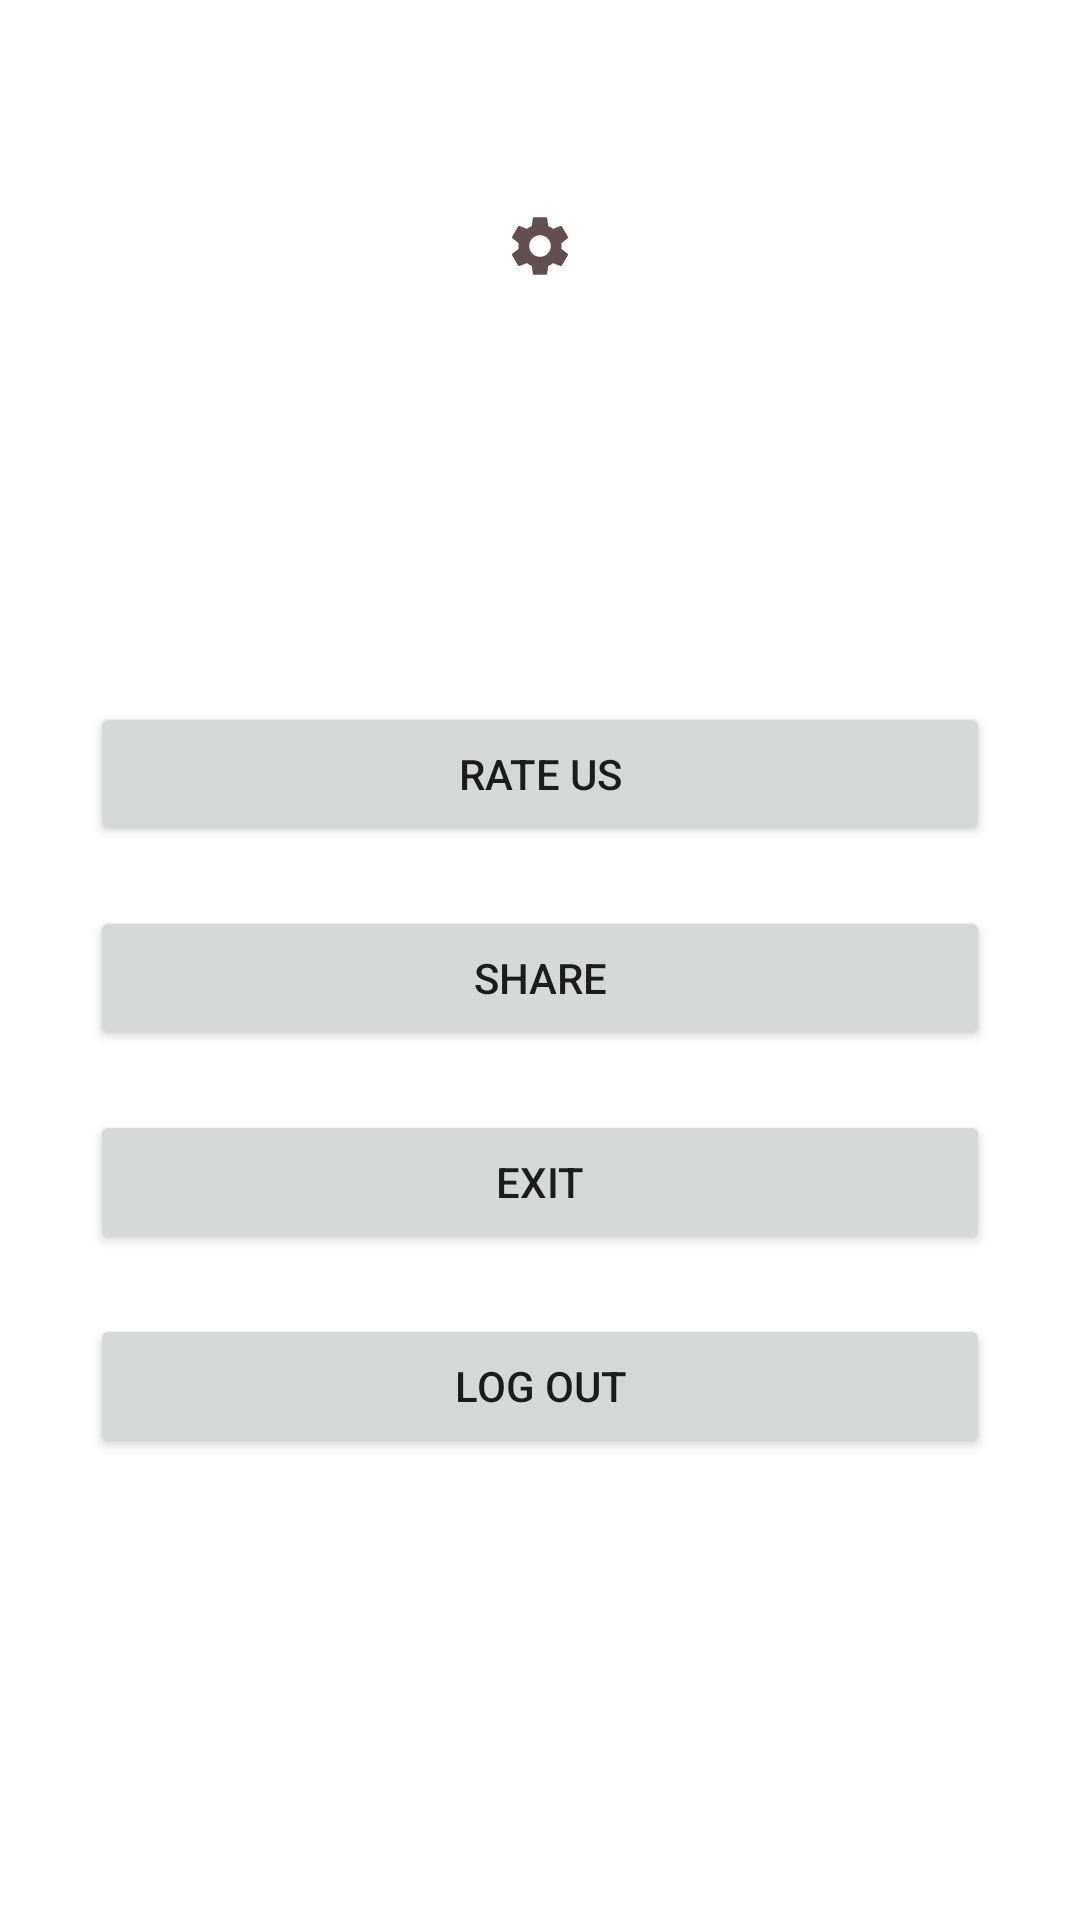

Screen size 1080 × 1920. Icon name, then its box in pixels as [x1=x1, y1=y1, x2=x2, y2=y2]:
settings: [x1=512, y1=217, x2=568, y2=275]
